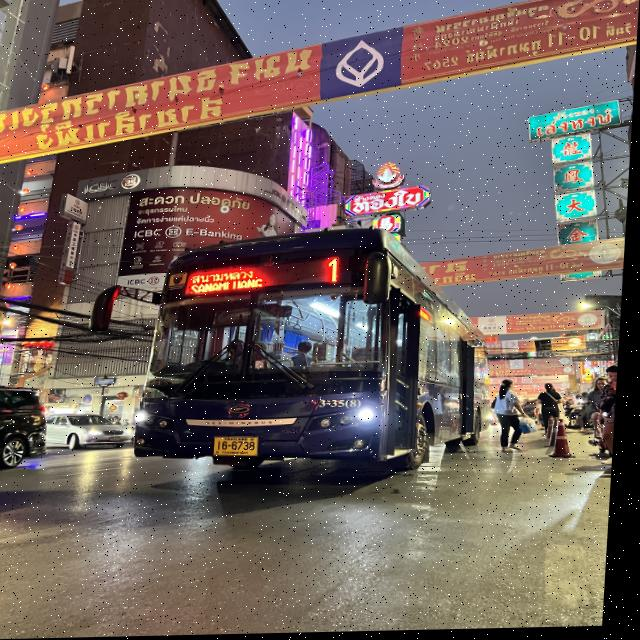Bus Line Number: (305, 250, 372, 292)
Bus Side Number: (314, 396, 376, 415)
Destination Sign: (182, 264, 279, 294)
TSB-Bus: (138, 230, 480, 481)
